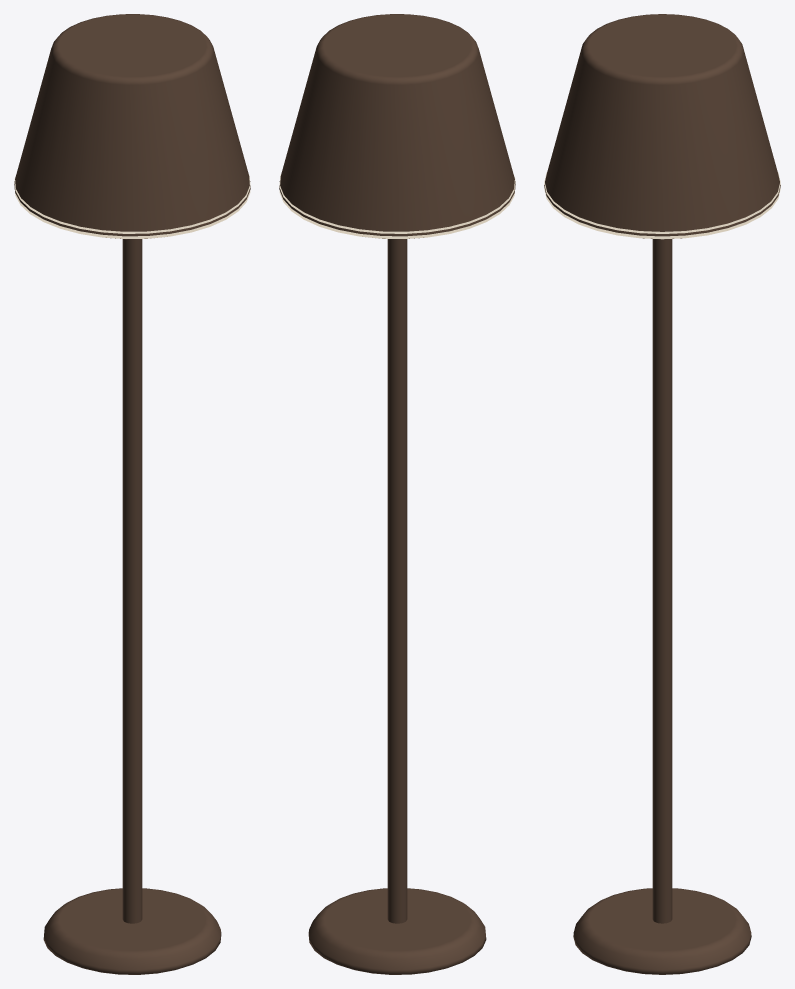
Rendered from floorlamp.glb.
3 renders of one model, left to right at view 1: azimuth 30°, elevation 25°; view 2: azimuth 150°, elevation 25°; view 3: azimuth 270°, elevation 25°, orthographic.
Parts seen in each view (by area): view 1: floorlamp; view 2: floorlamp; view 3: floorlamp.
Part boxes in pixels (box(x1,y1,x2,y2)): floorlamp: box(14, 14, 250, 974); floorlamp: box(279, 14, 515, 974); floorlamp: box(544, 14, 780, 974).
Size of the model in its own units: 0.4251 by 1.77 by 0.4251.
